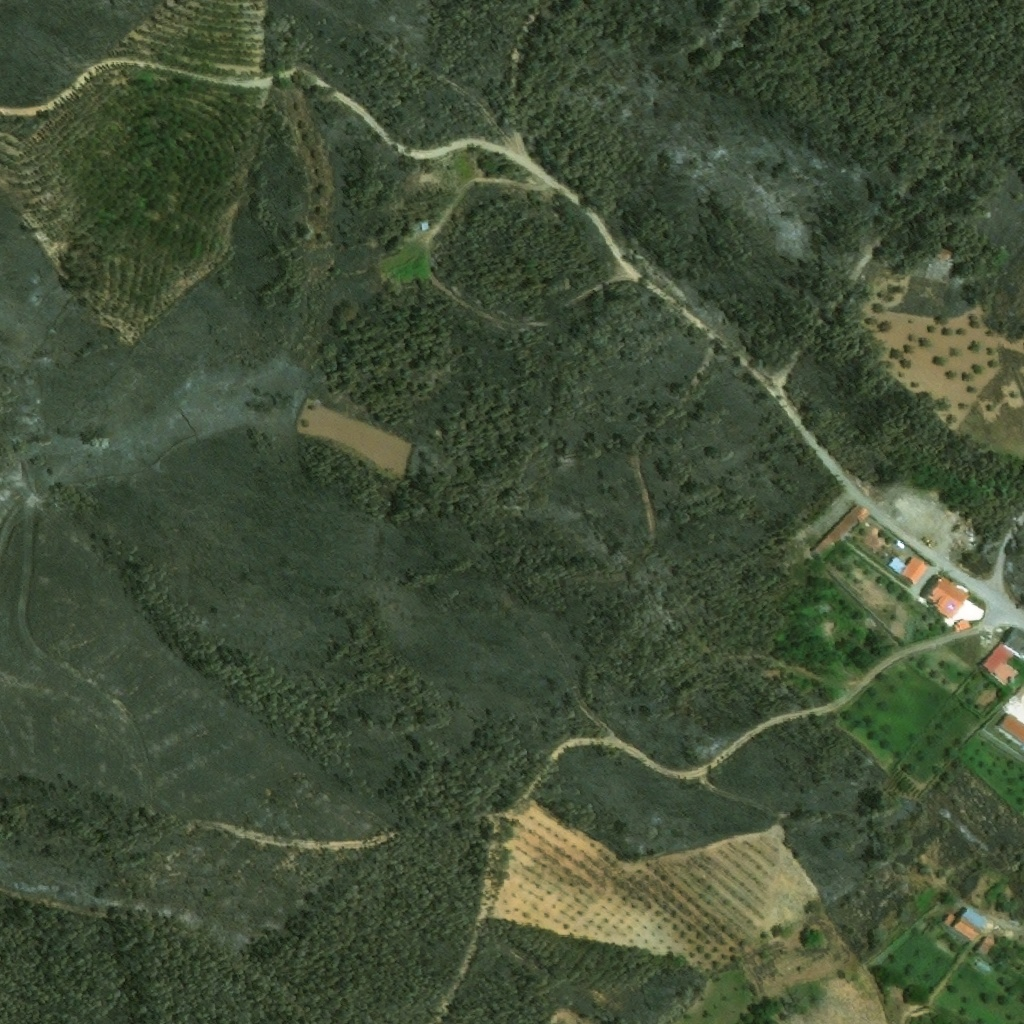0 no-damage: (808, 504, 869, 561), (922, 576, 968, 618), (981, 644, 1019, 690), (886, 556, 927, 586), (951, 908, 986, 942), (999, 626, 1023, 661), (998, 713, 1023, 746), (973, 937, 996, 958), (952, 618, 971, 633)
